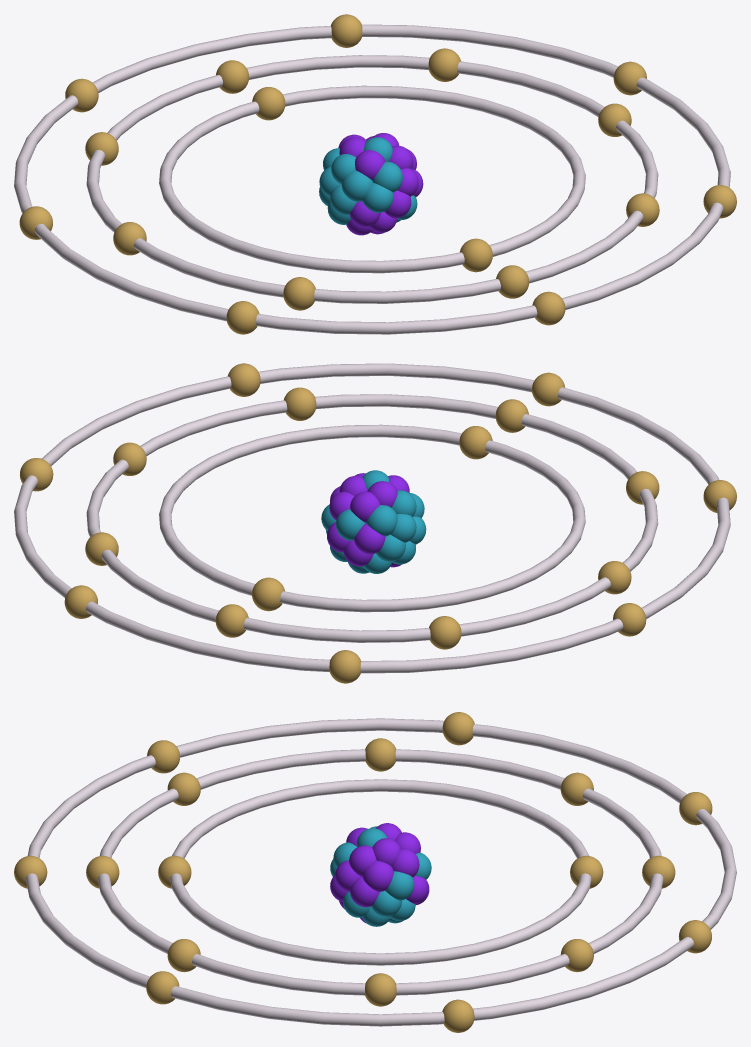
Rendered from cloro.glb.
The picture shows the model from 3 angles, top to bottom: view 1: azimuth 30°, elevation 25°; view 2: azimuth 150°, elevation 25°; view 3: azimuth 270°, elevation 25°; orthographic projection.
Parts seen in each view (by area): view 1: Orbita_3, Orbita_2, Orbita_1, Nucleo_Completo, Eletron_C2_8, Eletron_C3_4, Eletron_C2_4, Eletron_C3_7, Eletron_1, Eletron_C2_1, Eletron_C3_1, Eletron_2 (+9 smaller); view 2: Orbita_3, Orbita_2, Orbita_1, Nucleo_Completo, Eletron_C3_5, Eletron_C2_6, Eletron_C3_2, Eletron_C2_2, Eletron_2, Eletron_C2_5, Eletron_1, Eletron_C2_1 (+9 smaller); view 3: Orbita_3, Orbita_2, Orbita_1, Nucleo_Completo, Eletron_C2_3, Eletron_C3_3, Eletron_C2_7, Eletron_C3_6, Eletron_C3_7, Eletron_C3_2, Eletron_C2_2, Eletron_C2_4 (+9 smaller).
Part boxes in pixels (x1,y1,x2,y2): Orbita_3: (14, 24, 730, 334); Orbita_2: (86, 55, 658, 303); Orbita_1: (159, 85, 585, 273); Nucleo_Completo: (319, 133, 423, 235); Eletron_C2_8: (283, 277, 315, 310); Eletron_C3_4: (331, 14, 362, 47); Eletron_C2_4: (428, 48, 460, 81); Eletron_C3_7: (226, 301, 259, 334); Eletron_1: (460, 238, 492, 272); Eletron_C2_1: (496, 265, 529, 298); Eletron_C3_1: (532, 291, 565, 325); Eletron_2: (252, 87, 285, 120); Orbita_3: (14, 363, 730, 673); Orbita_2: (86, 394, 658, 642); Orbita_1: (159, 424, 585, 612); Nucleo_Completo: (321, 470, 426, 573); Eletron_C3_5: (329, 650, 361, 683); Eletron_C2_6: (429, 616, 461, 649); Eletron_C3_2: (228, 363, 260, 396); Eletron_C2_2: (284, 387, 316, 420); Eletron_2: (252, 577, 284, 611); Eletron_C2_5: (215, 604, 248, 637); Eletron_1: (459, 426, 492, 459); Eletron_C2_1: (495, 399, 528, 432); Orbita_3: (26, 718, 736, 1026); Orbita_2: (98, 749, 663, 995); Orbita_1: (170, 779, 591, 965); Nucleo_Completo: (330, 823, 431, 926); Eletron_C2_3: (365, 973, 396, 1006); Eletron_C3_3: (442, 999, 474, 1032); Eletron_C2_7: (365, 738, 396, 771); Eletron_C3_6: (442, 712, 474, 745); Eletron_C3_7: (147, 740, 180, 773); Eletron_C3_2: (146, 971, 179, 1004); Eletron_C2_2: (167, 939, 200, 972); Eletron_C2_4: (560, 939, 593, 972).
Bounding box in the file's own units: 3.47 × 0.5018 × 3.51.
